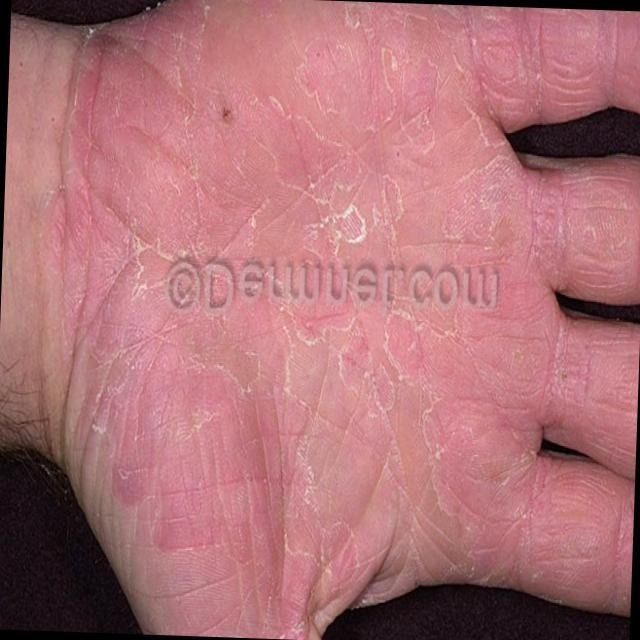Eczema: (62, 0, 597, 596)
